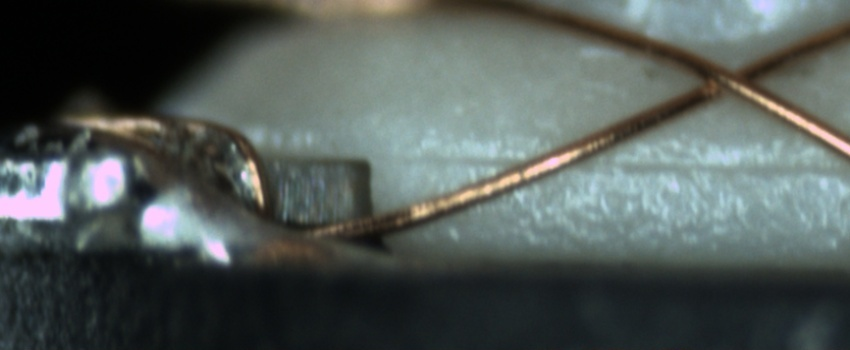CL: (679, 44, 784, 110)
DL: (389, 131, 850, 191)
TE: (62, 103, 285, 223)
